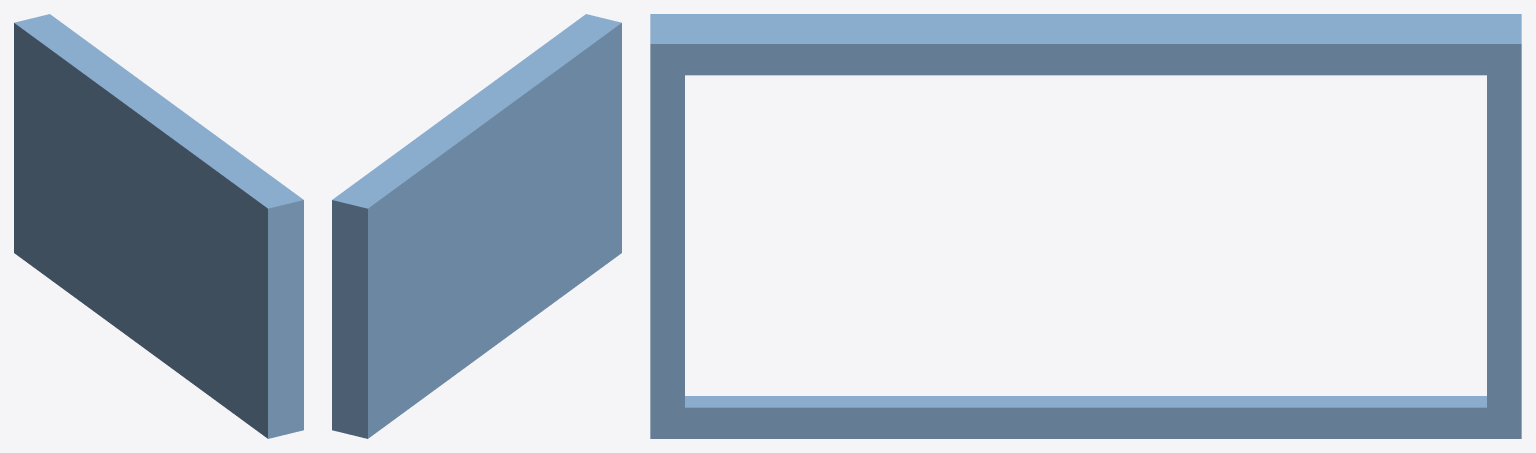
File: digital-clock.glb
3 renders of one model, left to right at view 1: azimuth 30°, elevation 25°; view 2: azimuth 150°, elevation 25°; view 3: azimuth 270°, elevation 25°, orthographic. The views are drawn at different scales.
Visible parts, largest first — view 1: DigitalClock; view 2: DigitalClock; view 3: DigitalClock.
Part boxes in pixels (left/top/right/bottom): DigitalClock: left=14, top=14, right=303, bottom=438; DigitalClock: left=332, top=14, right=621, bottom=438; DigitalClock: left=650, top=14, right=1521, bottom=438.
Bounding box in the file's own units: 0.1629 × 1 × 2.
